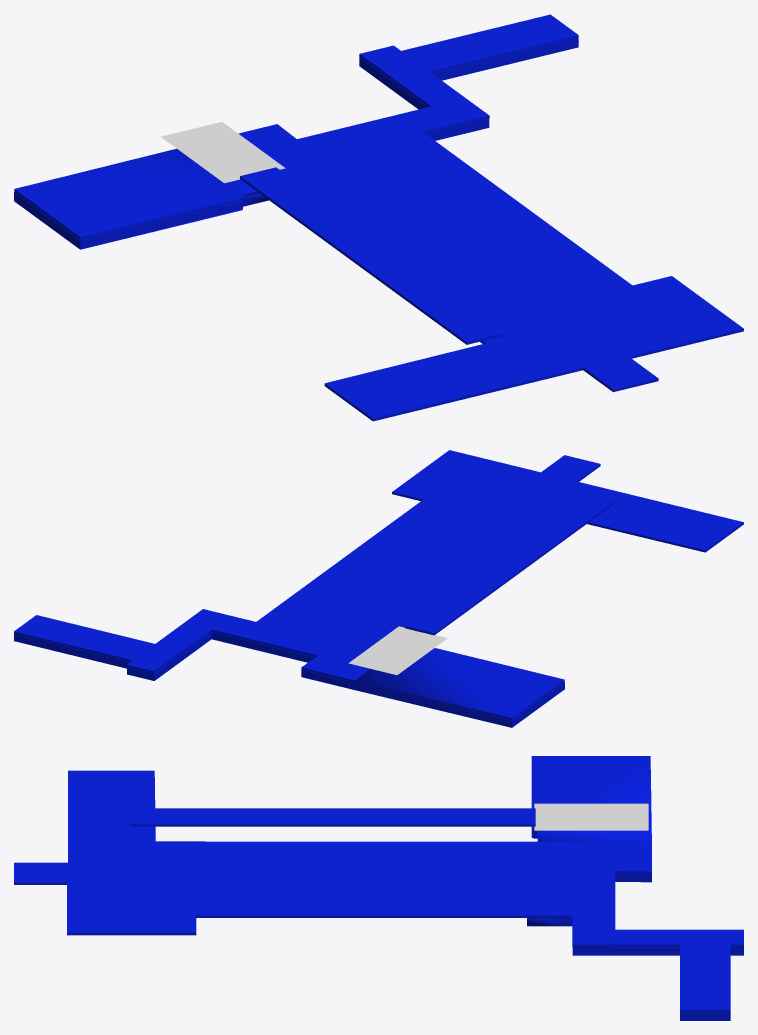
File: Katto_1krs.fbx
3 views of the same model, one above another, from view 1: azimuth 30°, elevation 25°; view 2: azimuth 150°, elevation 25°; view 3: azimuth 270°, elevation 25° (orthographic). The views are drawn at different scales.
Parts seen in each view (by area): view 1: Kattopala; view 2: Kattopala; view 3: Kattopala.
Part boxes in pixels (x1,y1,x2,y2): Kattopala: (14,14,743,421); Kattopala: (14,450,743,727); Kattopala: (14,756,743,1020).
Size of the model in its own units: 4491 by 240 by 5453.
